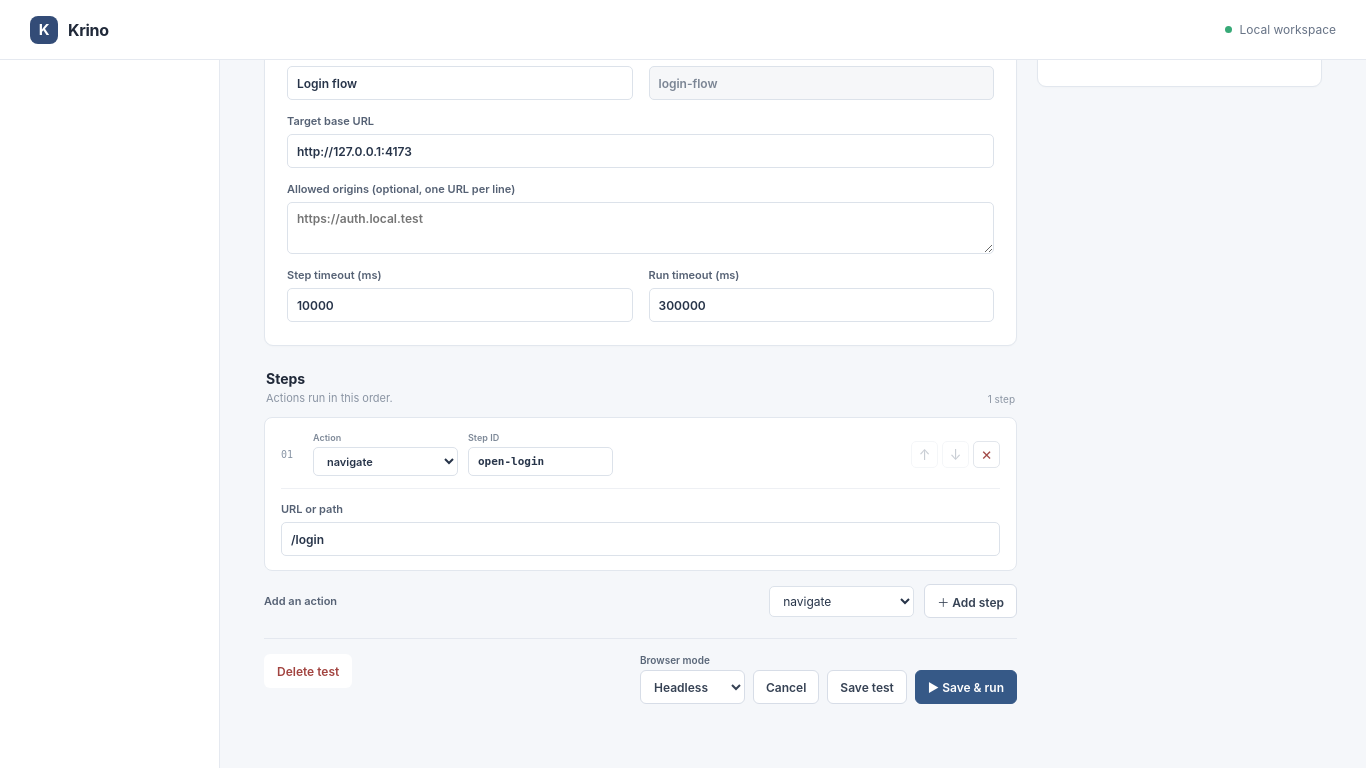
Test: Krino UI › sends headed mode when Visible is selected and identifies it in the run report
The image size is (1366, 768).
(page scrolled)
Select "Visible" in the dropdown labelled "Browser mode": (692, 687) [640,670,745,704]
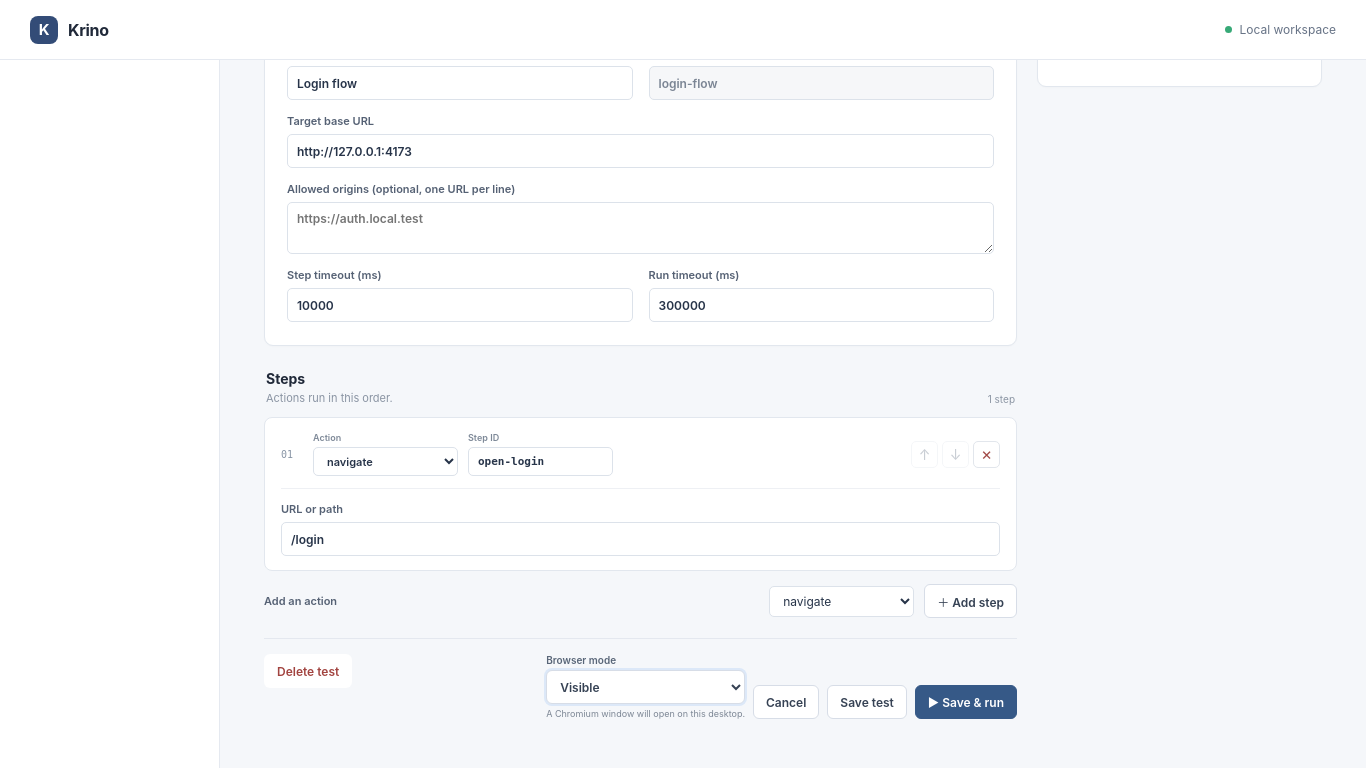
Expected: the text "A Chromium window will open on this desktop." is shown, [546,708,745,719]
Click the button "▶ Save & run": (966, 702) [915,685,1017,719]
(page scrolled)
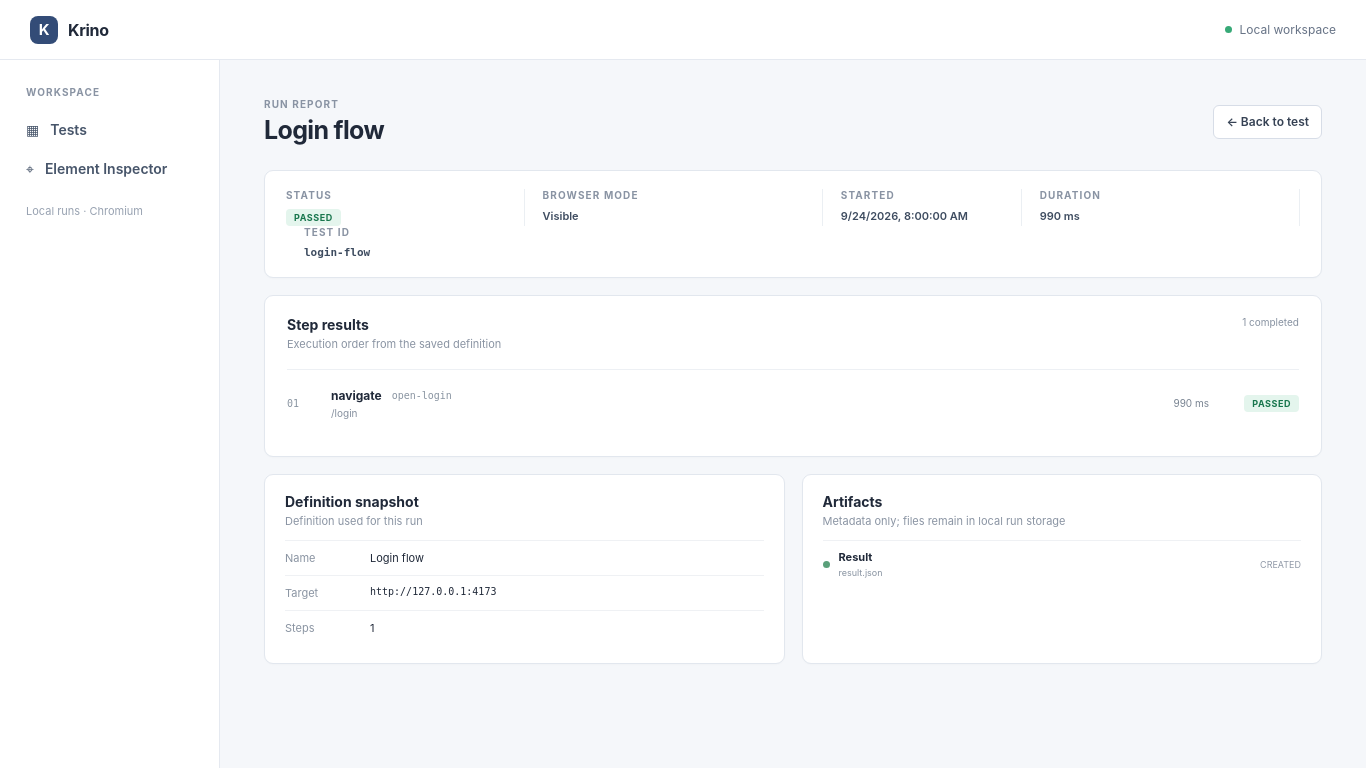
Expected: the text "Visible" is shown, [543,209,579,223]
